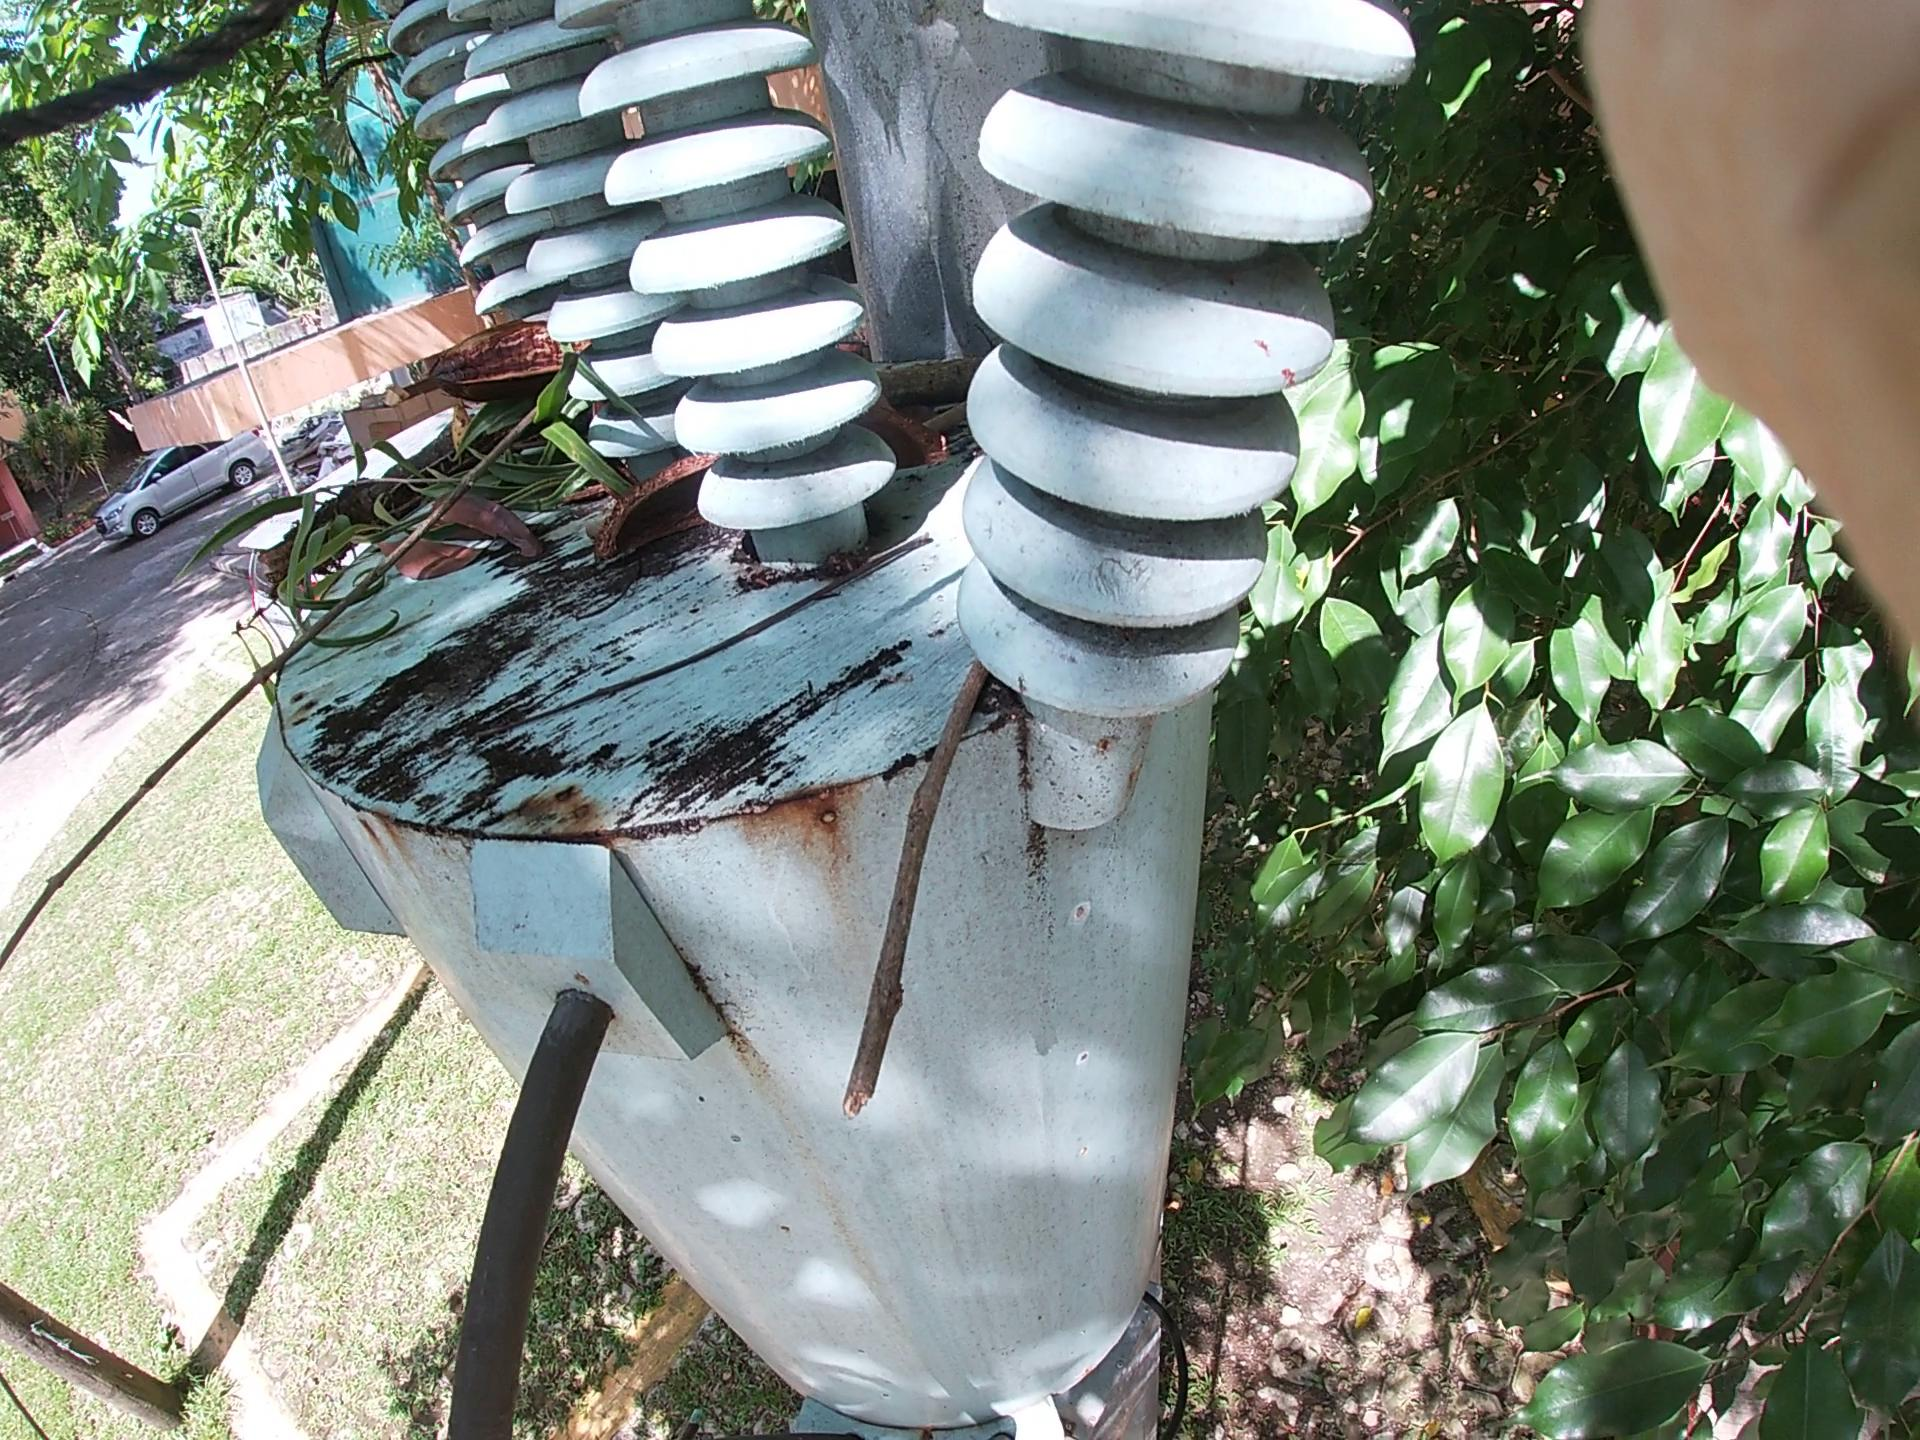branch with leaves: (221, 272, 617, 616)
leaf: (319, 402, 547, 637)
mahogany fruit: (585, 399, 930, 570), (395, 272, 585, 442)
tree branch: (79, 366, 627, 889), (523, 554, 883, 755), (838, 656, 972, 1109), (862, 331, 1005, 473)
